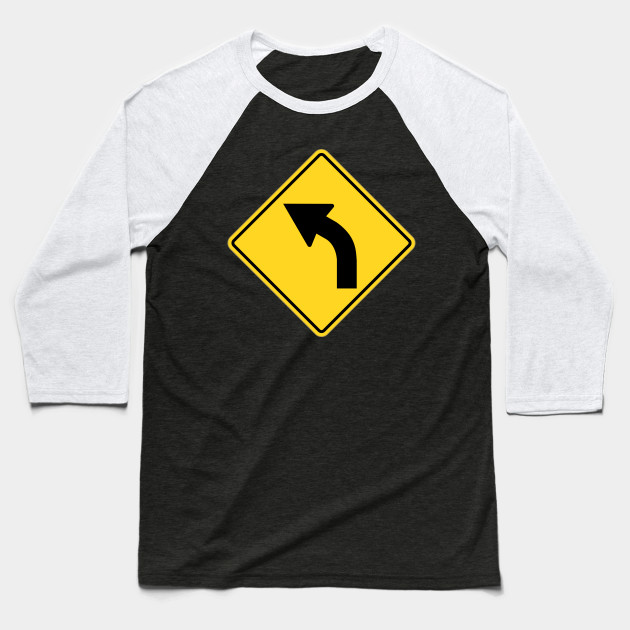left: (224, 146, 418, 342)
